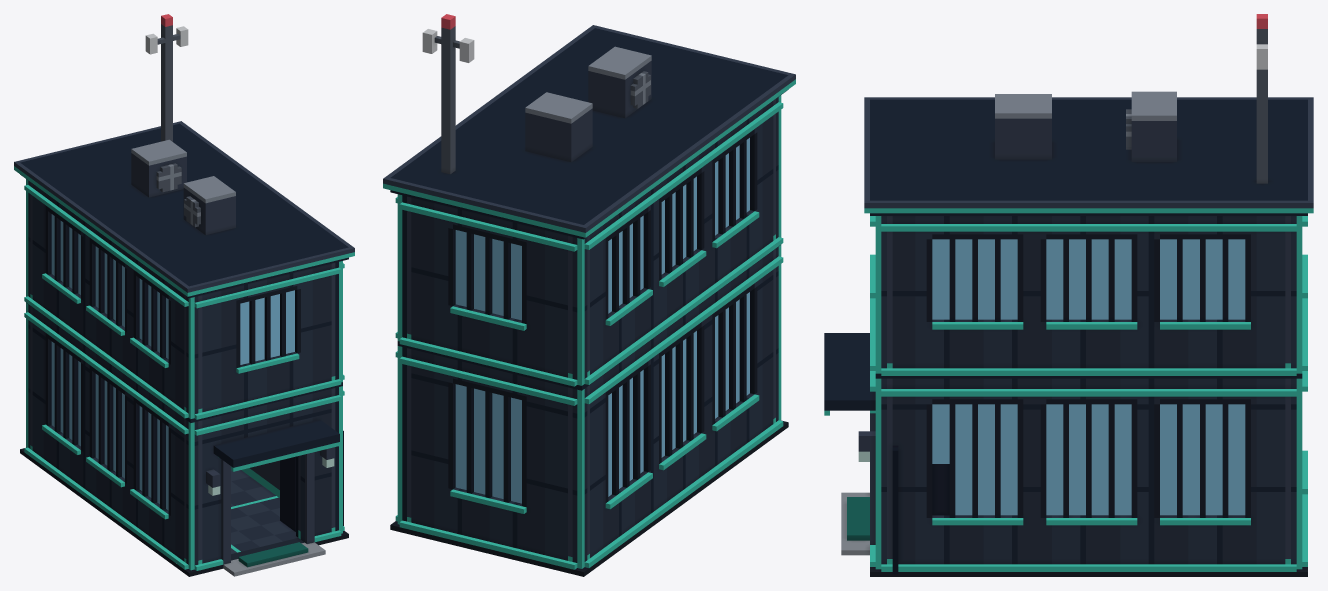
Rendered from lab_e4_l3.glb.
3 views of the same model, side by side, from view 1: azimuth 30°, elevation 25°; view 2: azimuth 150°, elevation 25°; view 3: azimuth 270°, elevation 25° (orthographic). The views are drawn at different scales.
Parts seen in each view (by area): view 1: CutUpper, Base, CutNX, CutPZ, CutNZ; view 2: CutUpper, CutNZ, CutNX, Base, CutPZ; view 3: CutUpper, CutPX, Base, CutPZ, CutNZ.
Part boxes in pixels (box(x1,y1,x2,y2)): CutUpper: box(14, 14, 354, 422); Base: box(20, 414, 348, 576); CutNX: box(24, 308, 188, 529); CutPZ: box(184, 386, 343, 534); CutNZ: box(26, 303, 32, 418); CutUpper: box(383, 14, 795, 390); CutNZ: box(397, 346, 589, 525); CutNX: box(584, 251, 783, 519); Base: box(390, 380, 788, 576); CutPZ: box(773, 245, 781, 385); CutUpper: box(864, 14, 1313, 378); CutPX: box(881, 378, 1296, 525); Base: box(841, 464, 1307, 576); CutPZ: box(824, 333, 898, 527); CutNZ: box(1285, 371, 1307, 522).
Size of the model in its own units: 4.4 by 10.5 by 8.6.
